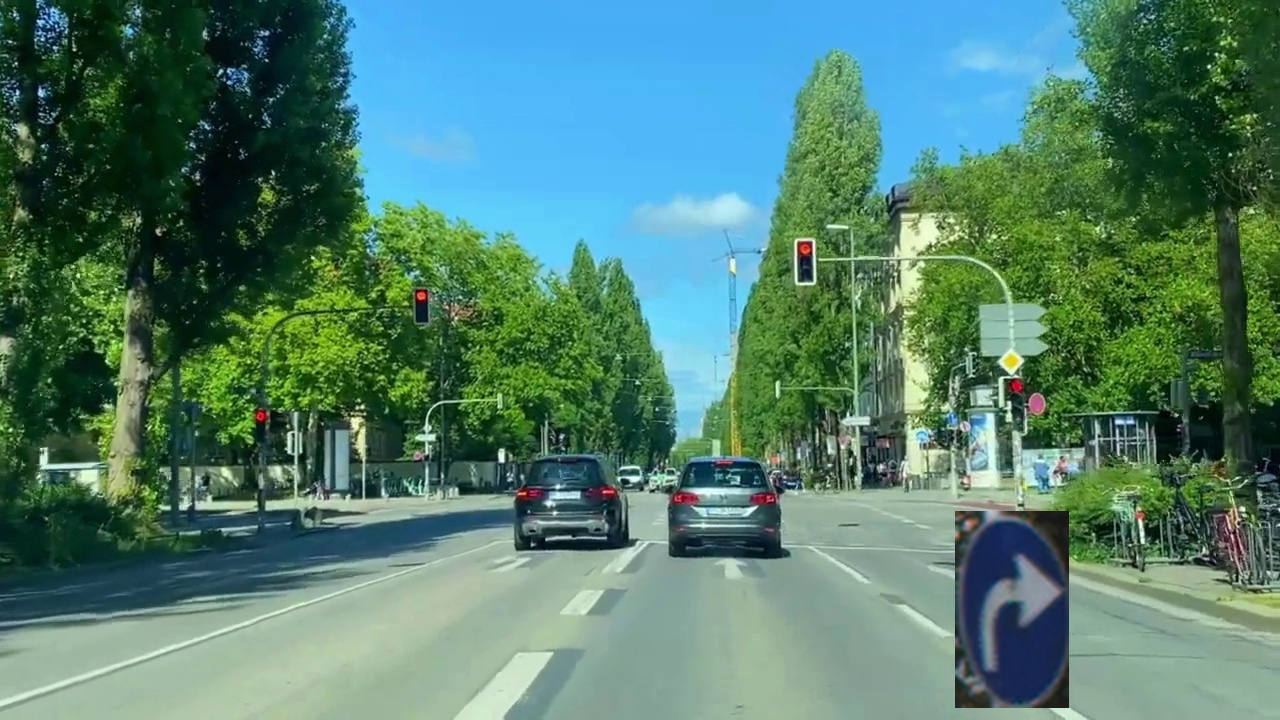Turn right: (955, 511, 1069, 708)
